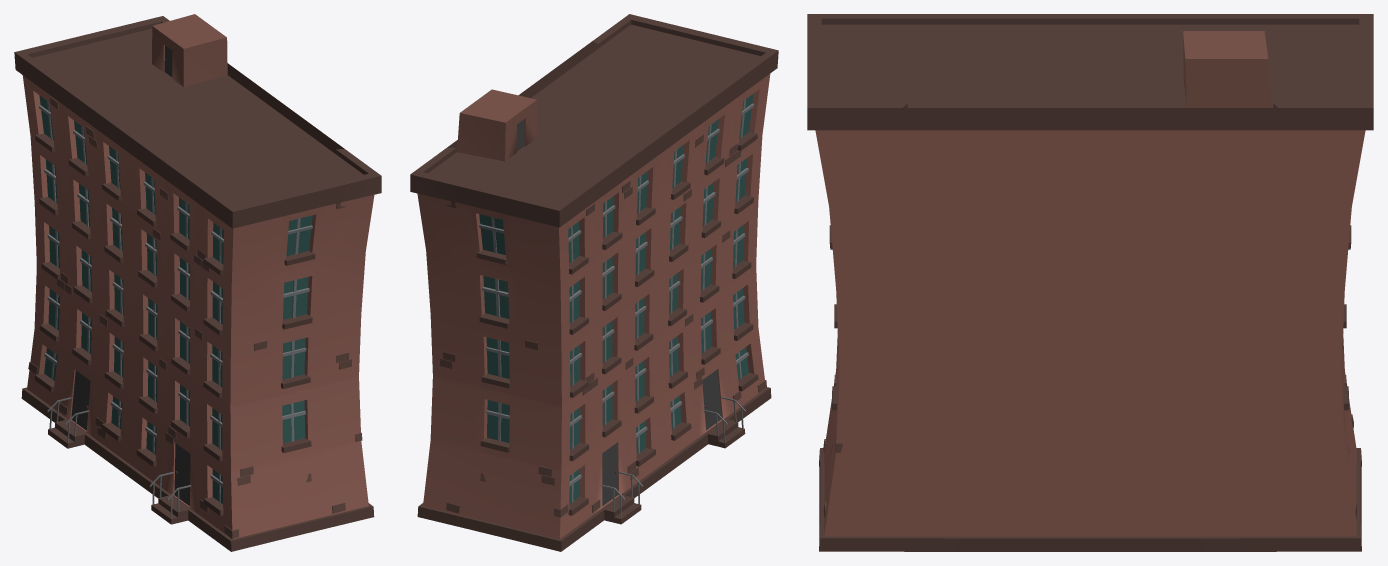
The model's file is BG_House.fbx.
3 renders of one model, left to right at view 1: azimuth 30°, elevation 25°; view 2: azimuth 150°, elevation 25°; view 3: azimuth 270°, elevation 25°, orthographic. The views are drawn at different scales.
Visible parts, largest first — view 1: BG_House; view 2: BG_House; view 3: BG_House.
Boxes of the visible parts, x1,y1,x2,y2 form: BG_House: (14, 14, 381, 551); BG_House: (410, 14, 778, 551); BG_House: (807, 14, 1373, 551).
Size of the model in its own units: 166 by 364 by 382.
